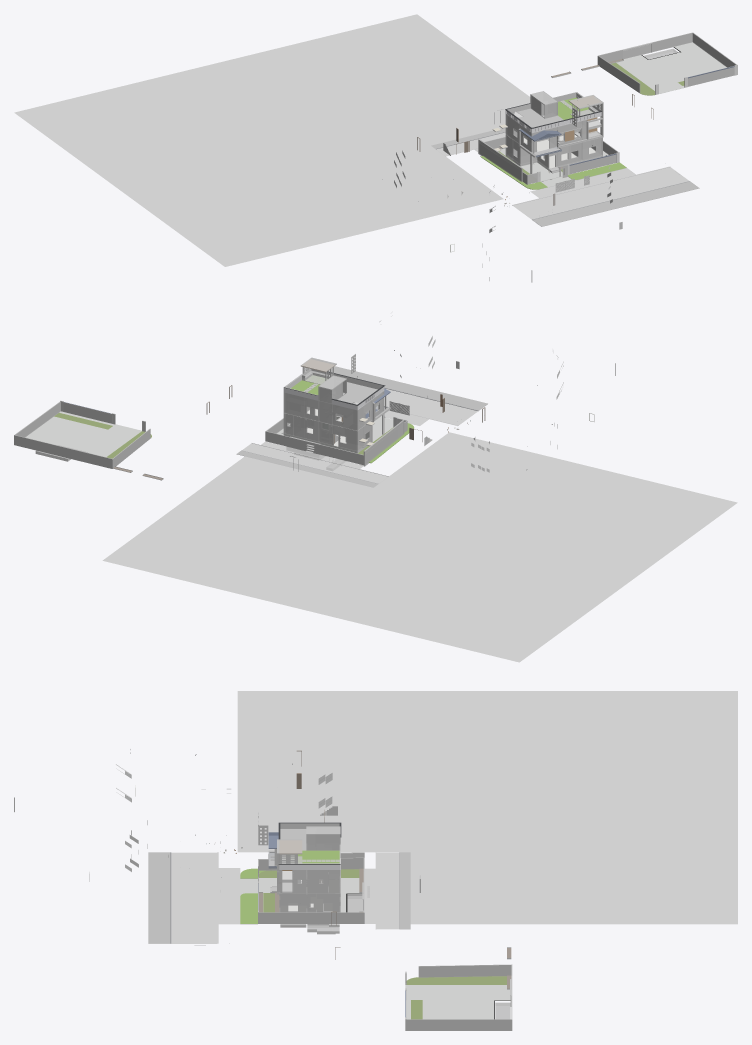
Rendered from pune-villa.glb.
3 renders of one model, top to bottom at view 1: azimuth 30°, elevation 25°; view 2: azimuth 150°, elevation 25°; view 3: azimuth 270°, elevation 25°, orthographic. The views are drawn at different scales.
Bounding box in the file's own units: 4417 × 889 × 4004.
